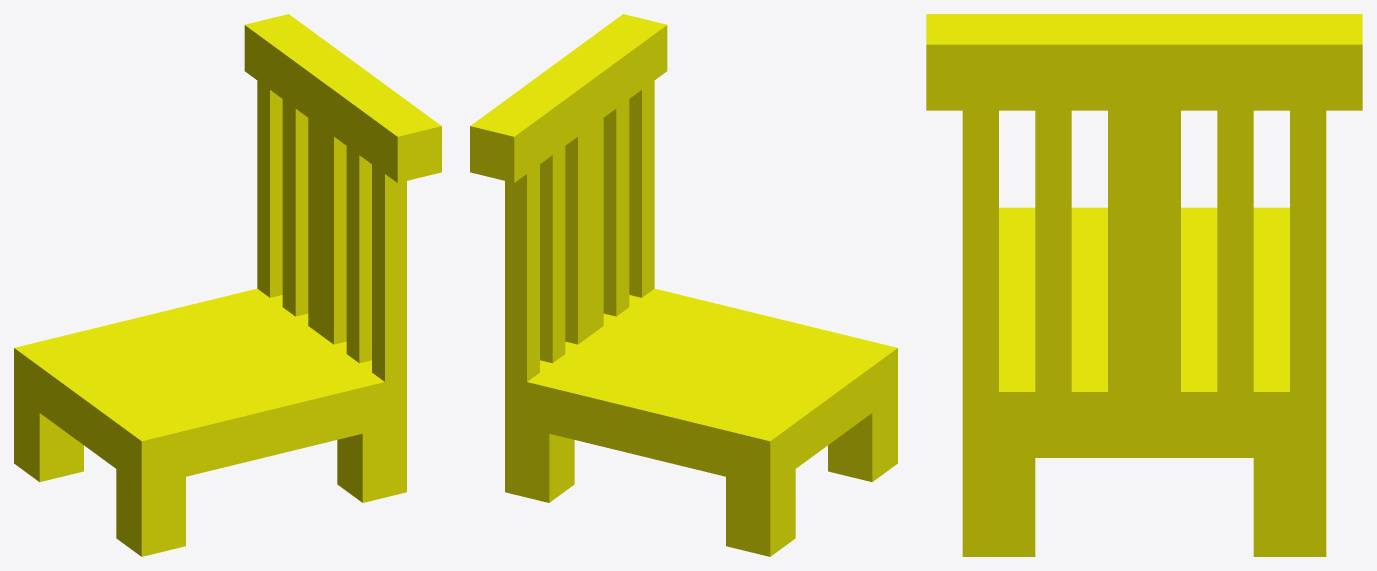
Rendered from voxel-village-chair.glb.
The picture shows the model from 3 angles, left to right: view 1: azimuth 30°, elevation 25°; view 2: azimuth 150°, elevation 25°; view 3: azimuth 270°, elevation 25°; orthographic projection. The views are drawn at different scales.
Visible parts, largest first — view 1: ObjObject.007; view 2: ObjObject.007; view 3: ObjObject.007.
Part boxes in pixels (x1=…): ObjObject.007: x1=14, y1=14, x2=441, y2=556; ObjObject.007: x1=470, y1=14, x2=897, y2=556; ObjObject.007: x1=926, y1=14, x2=1362, y2=556.
Bounding box in the file's own units: 1.3 × 1.6 × 1.2.
